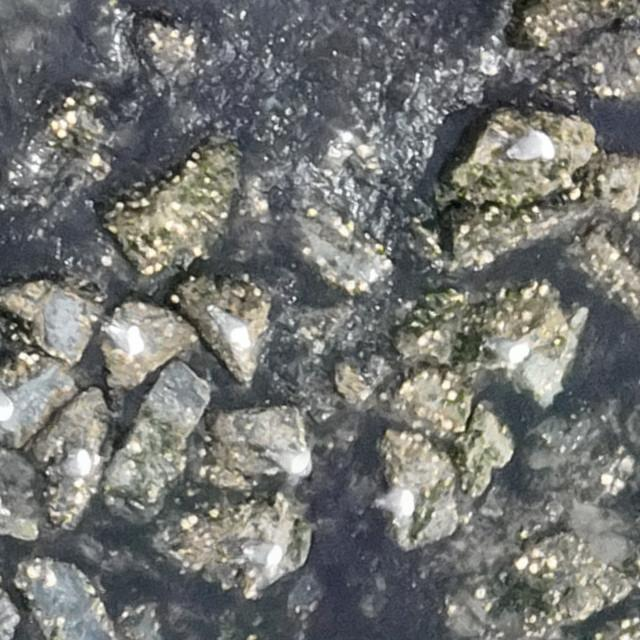umineko: (212, 306, 250, 348), (505, 131, 555, 162), (108, 324, 147, 353), (53, 453, 90, 479), (488, 340, 532, 361), (266, 450, 308, 472), (382, 495, 420, 517), (249, 544, 282, 566)
